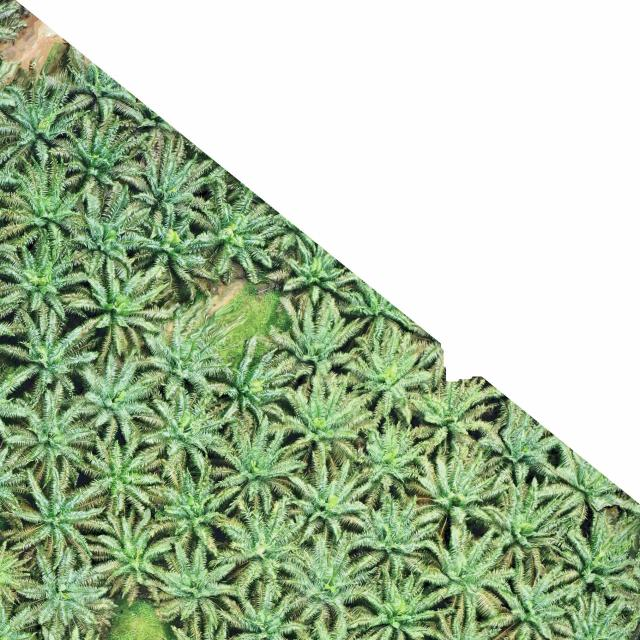Tree: (67, 250, 182, 368), (177, 177, 285, 286), (210, 498, 314, 604), (115, 128, 212, 237), (10, 464, 106, 574), (154, 462, 252, 568), (148, 544, 254, 640), (275, 524, 377, 622), (11, 542, 113, 640), (419, 528, 515, 631), (0, 148, 89, 259), (208, 423, 310, 519), (0, 291, 97, 391), (4, 373, 102, 470), (0, 230, 101, 323), (476, 473, 574, 566), (87, 509, 176, 611), (0, 68, 92, 162), (45, 110, 141, 200), (270, 291, 368, 378), (276, 371, 378, 454), (345, 492, 443, 578), (132, 388, 225, 477), (77, 350, 158, 450), (414, 446, 511, 528), (203, 338, 295, 424), (548, 520, 640, 604), (342, 344, 434, 427), (483, 560, 576, 640), (72, 182, 150, 274), (75, 439, 164, 518), (132, 329, 228, 402), (214, 570, 313, 640), (353, 572, 450, 640), (349, 416, 424, 501), (301, 454, 373, 540)
